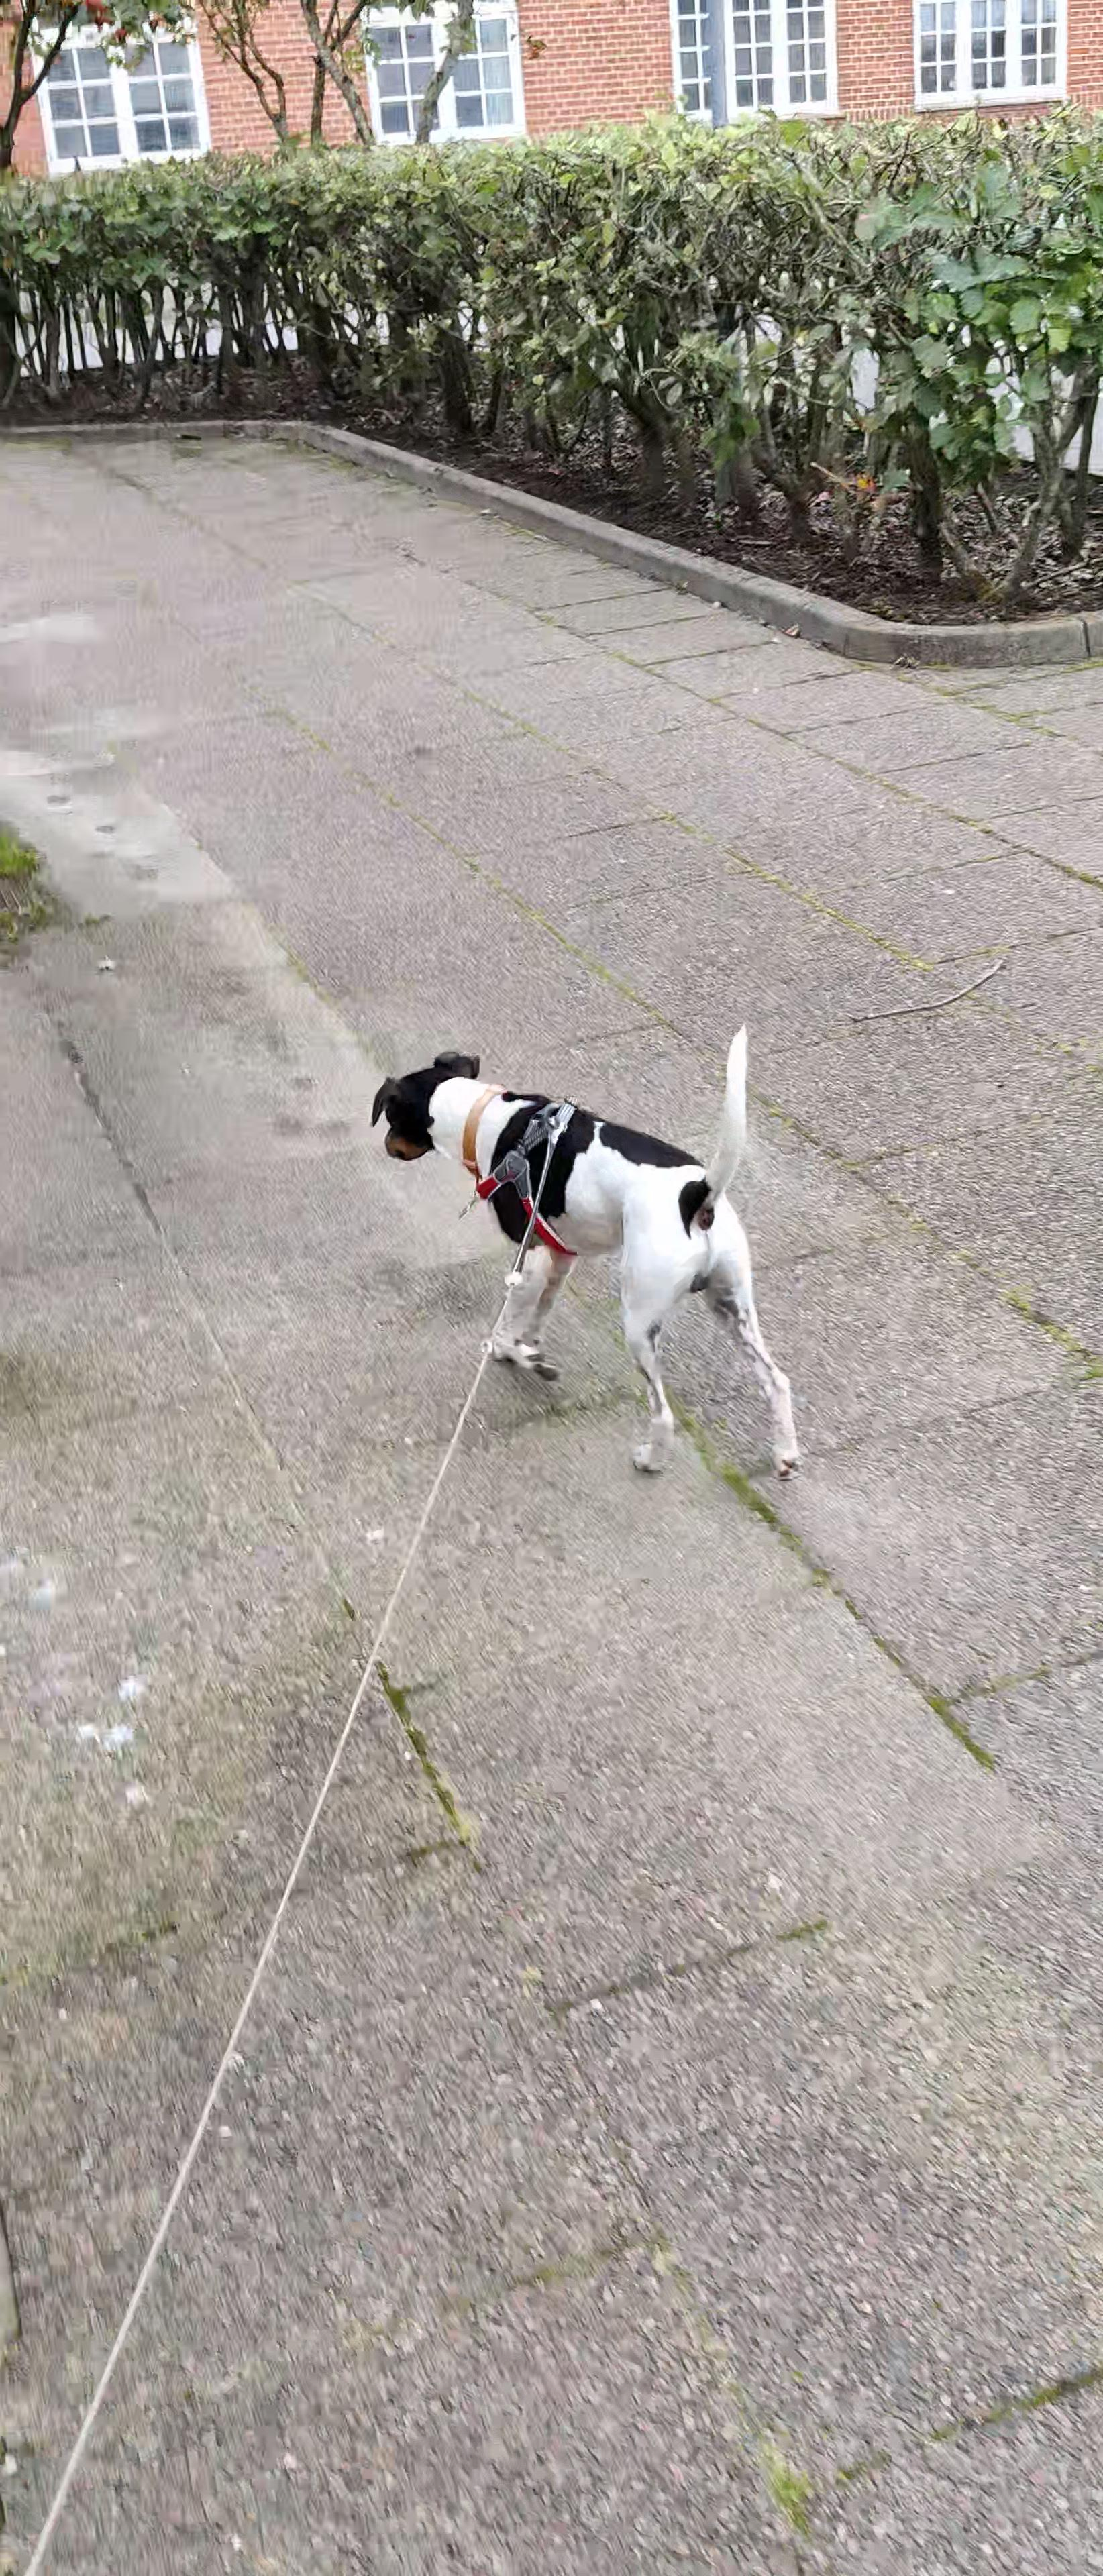Dog: (365, 1015, 812, 1480)
